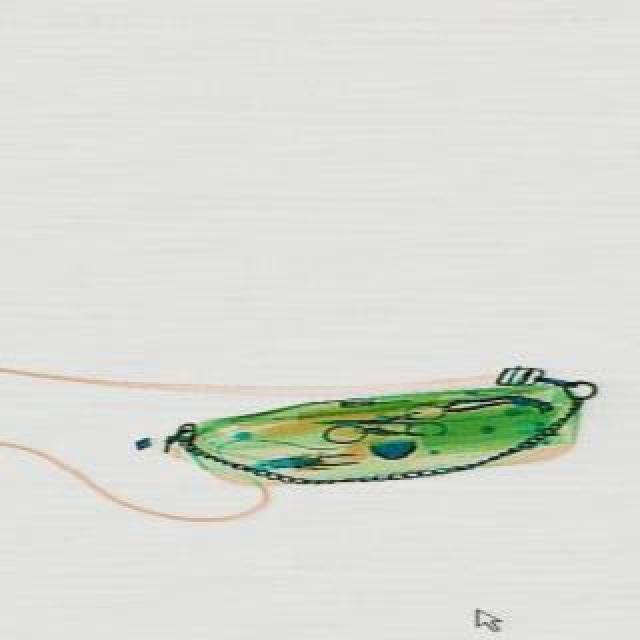pliers: (308, 400, 444, 440)
